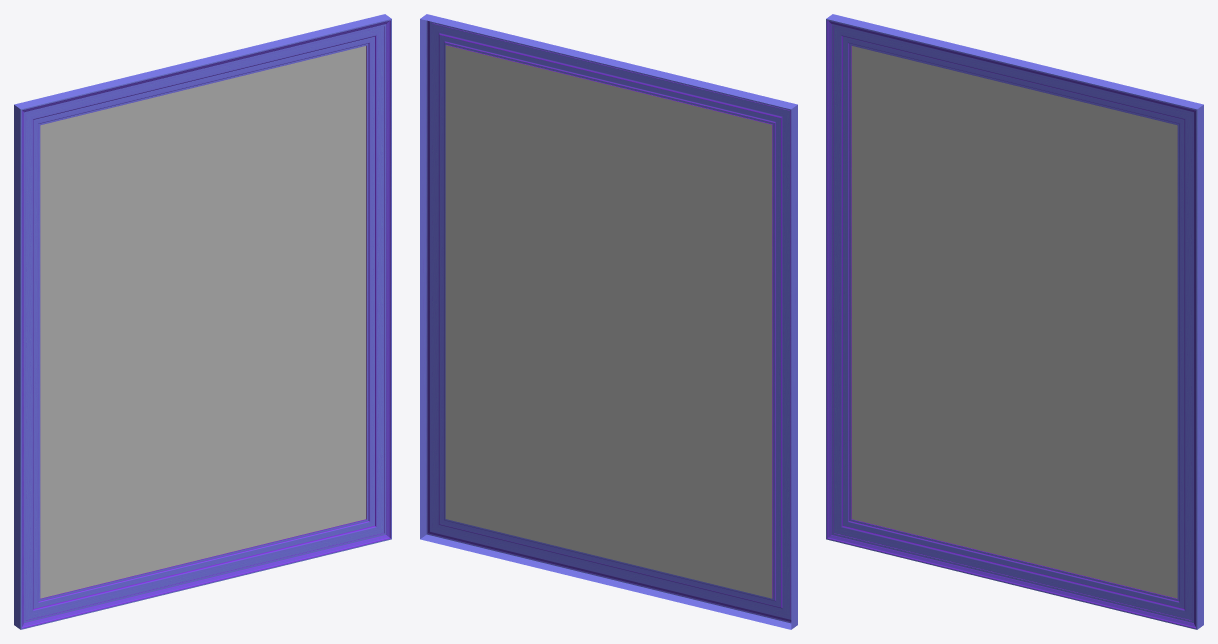
The picture shows the model from 3 angles, left to right: view 1: azimuth 30°, elevation 25°; view 2: azimuth 150°, elevation 25°; view 3: azimuth 330°, elevation 25°; orthographic projection.
Parts seen in each view (by area): view 1: _14_21, _14_21_frame; view 2: _14_21, _14_21_frame; view 3: _14_21, _14_21_frame.
Boxes of the visible parts, <box> form: _14_21: <box>40,46,366,598</box>; _14_21_frame: <box>14,14,391,629</box>; _14_21: <box>445,45,772,598</box>; _14_21_frame: <box>420,14,797,629</box>; _14_21: <box>851,46,1177,598</box>; _14_21_frame: <box>826,14,1203,629</box>.
Size of the model in its own units: 250 by 335 by 7.83.
